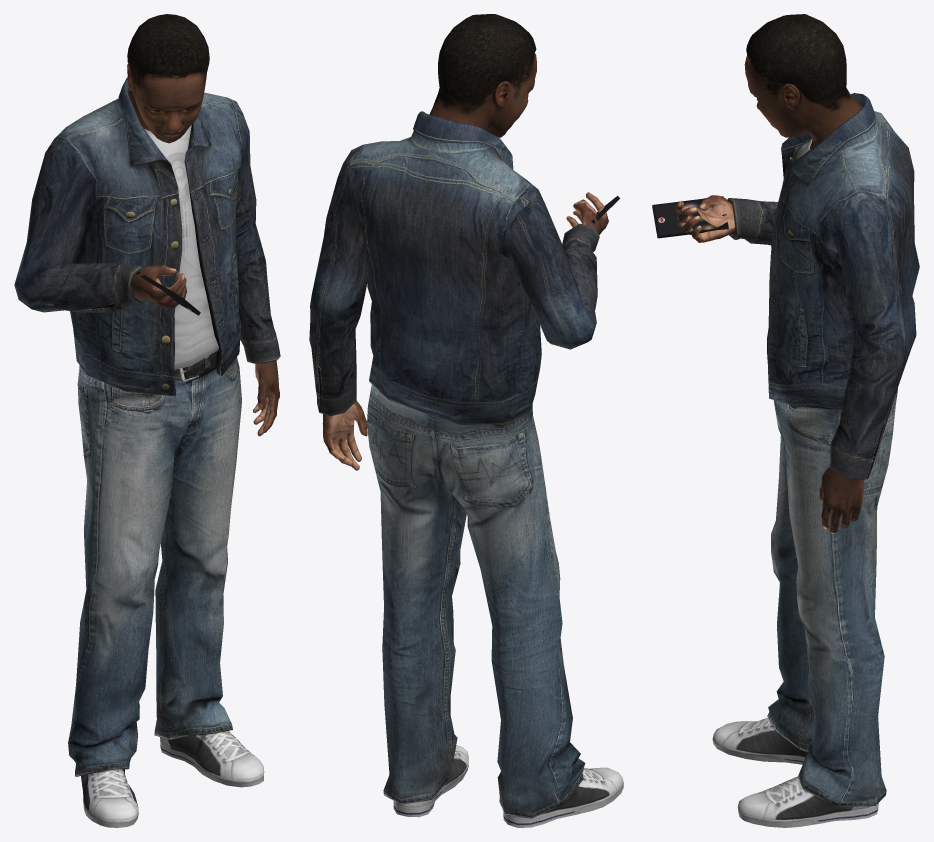
File: PasserBy_Phone.obj
The picture shows the model from 3 angles, left to right: view 1: azimuth 30°, elevation 25°; view 2: azimuth 150°, elevation 25°; view 3: azimuth 270°, elevation 25°; orthographic projection. The views are drawn at different scales.
Parts seen in each view (by area): view 1: Body, Head; view 2: Body, Head; view 3: Body, Head, PropScreen.
Part boxes in pixels (left/top/right/bottom): Body: left=14, top=77, right=280, bottom=827; Head: left=127, top=14, right=209, bottom=143; Body: left=309, top=111, right=623, bottom=827; Head: left=429, top=14, right=536, bottom=137; Body: left=675, top=93, right=919, bottom=827; Head: left=744, top=14, right=862, bottom=149; PropScreen: left=654, top=200, right=726, bottom=235.
Bounding box in the file's own units: 0.6407 × 1.77 × 0.5569.
Materials: 4 (4 with a texture image).
